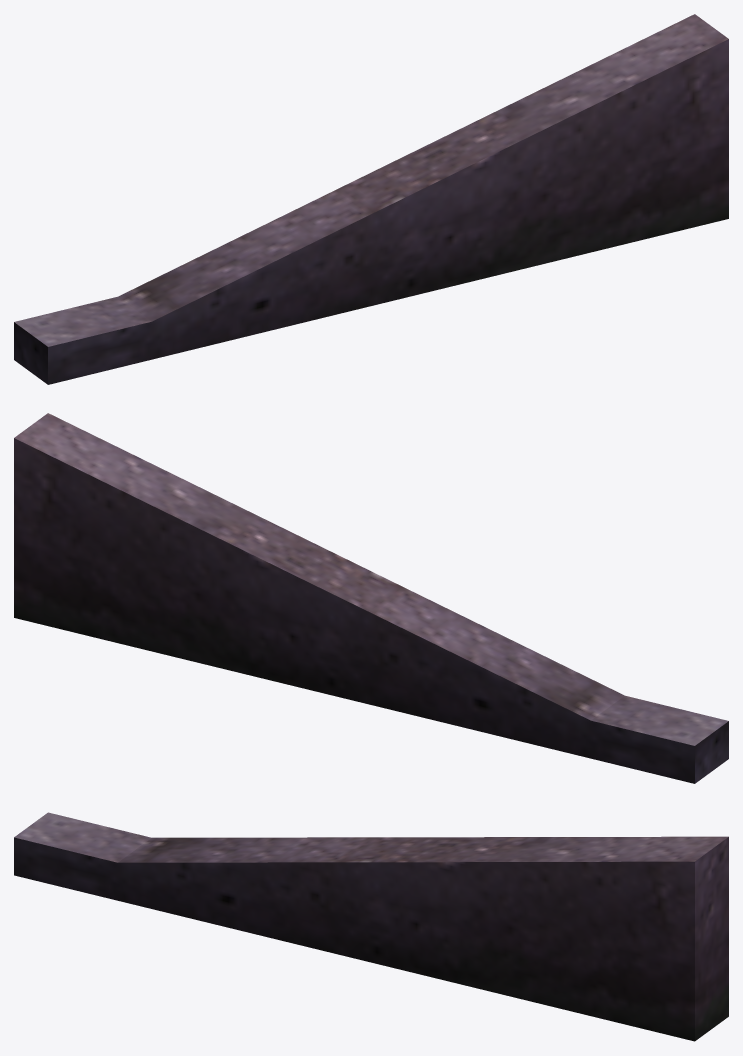
The model's file is SM_zhucheng_taijie03.FBX.
3 views of the same model, one above another, from view 1: azimuth 30°, elevation 25°; view 2: azimuth 150°, elevation 25°; view 3: azimuth 330°, elevation 25° (orthographic).
Parts seen in each view (by area): view 1: SM_zhucheng_taijie03; view 2: SM_zhucheng_taijie03; view 3: SM_zhucheng_taijie03.
Part boxes in pixels (box(x1,y1,x2,y2)): SM_zhucheng_taijie03: box(14, 14, 728, 384); SM_zhucheng_taijie03: box(14, 413, 728, 783); SM_zhucheng_taijie03: box(14, 812, 728, 1041).
Bounding box in the file's own units: 775 × 196 × 67.3.
